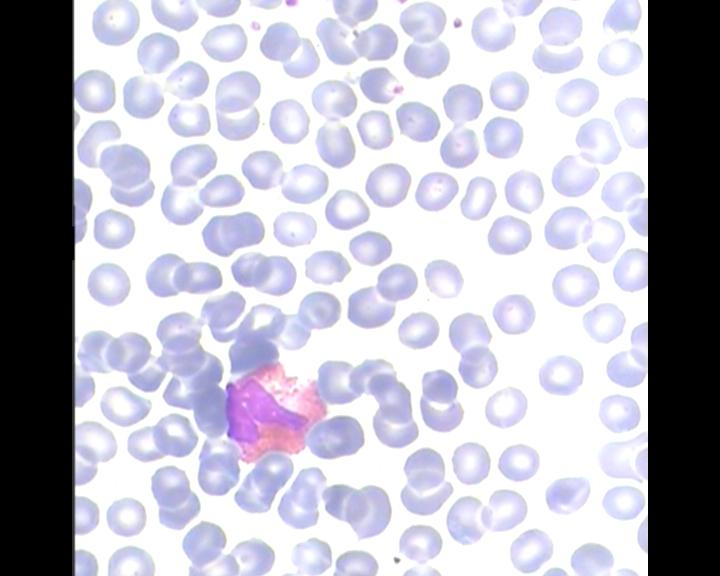eosi: (219, 354, 332, 462)
